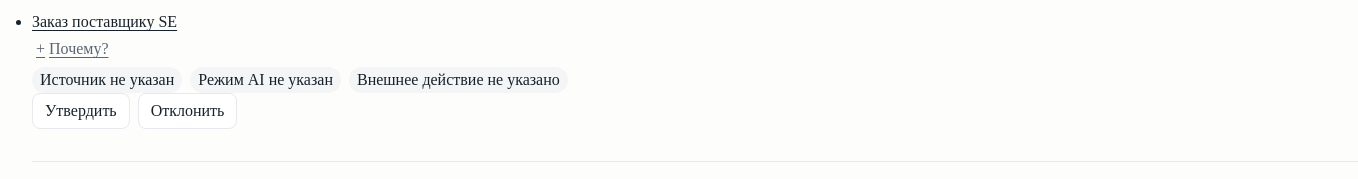
a_real action boundaries › never guesses a proposal version when the queue omits it
Click the button "Отклонить".
click(188, 111)  # box [138, 93, 237, 129]
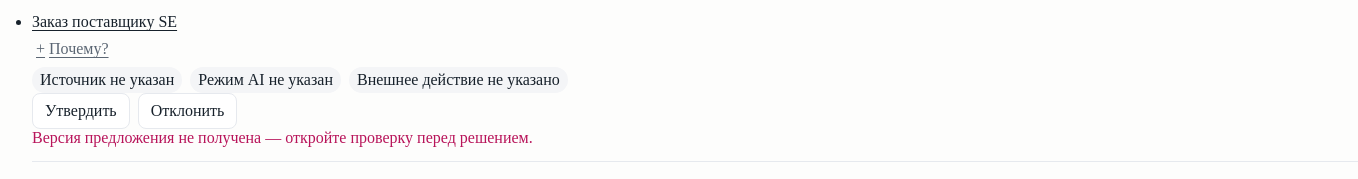
Now the text "Версия предложения не получена — откройте проверку перед решением." is shown, box [32, 129, 533, 146]
